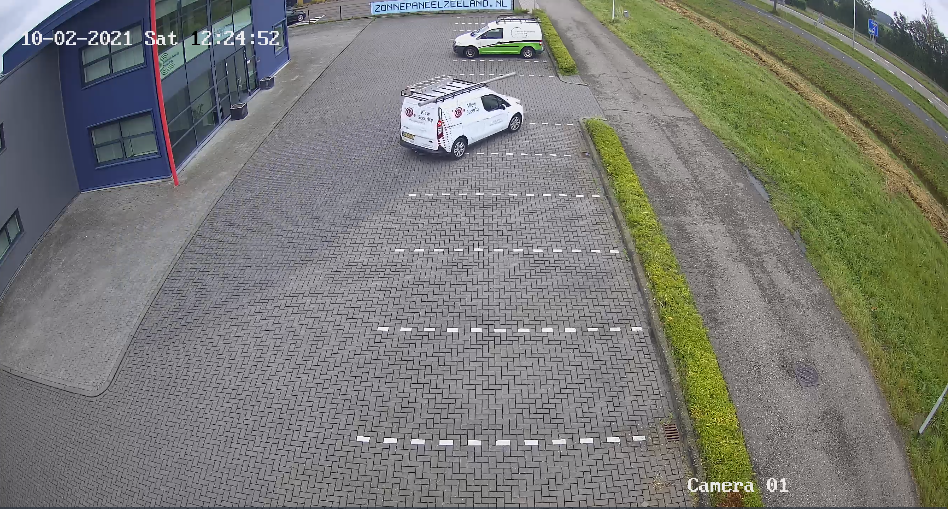werkbus: (395, 71, 548, 181), (442, 15, 547, 63)
